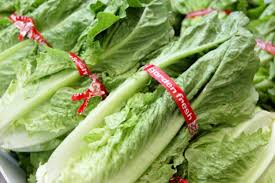Lettuce: (38, 9, 260, 183)
